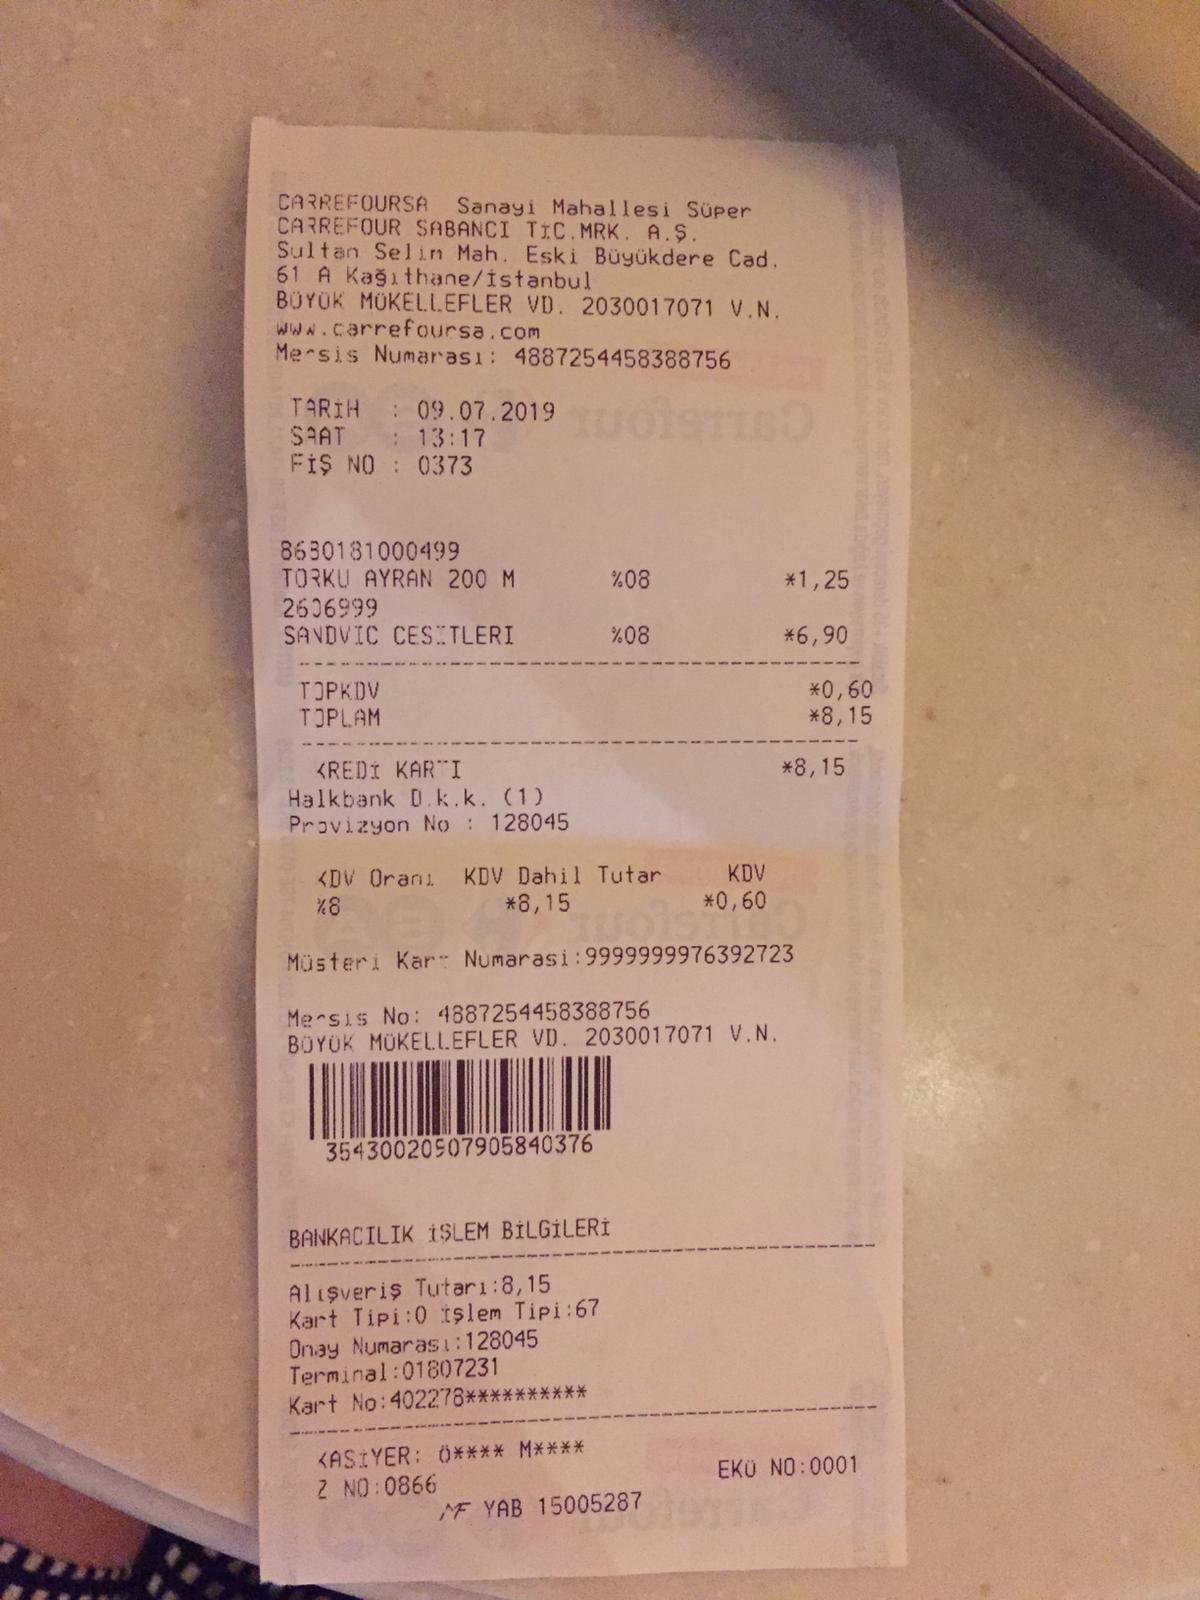total: (297, 703, 889, 738)
